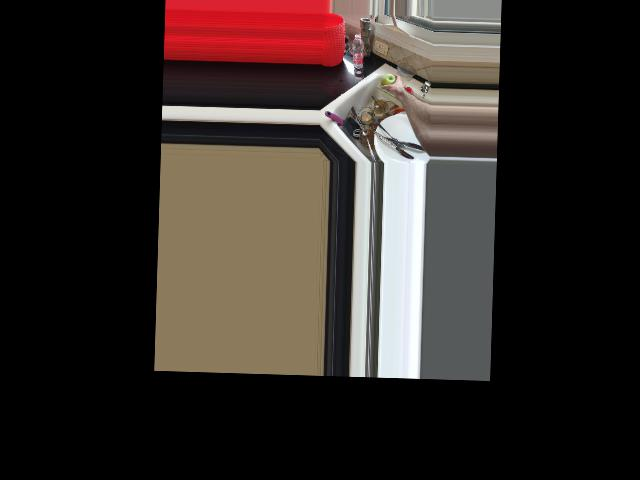apple: (381, 71, 396, 90)
